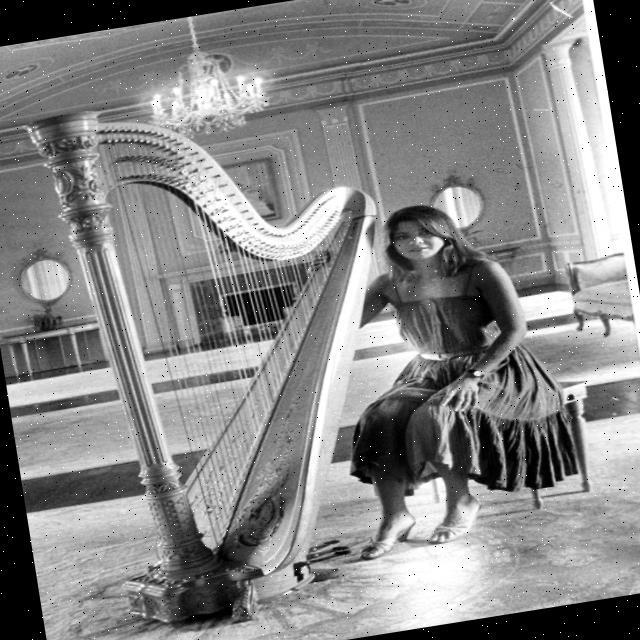harp: (21, 63, 444, 640)
